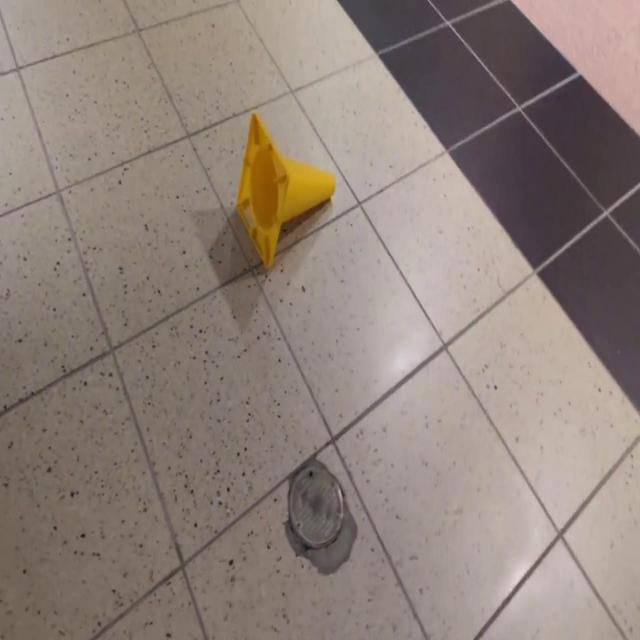frc_cone: (236, 110, 336, 276)
